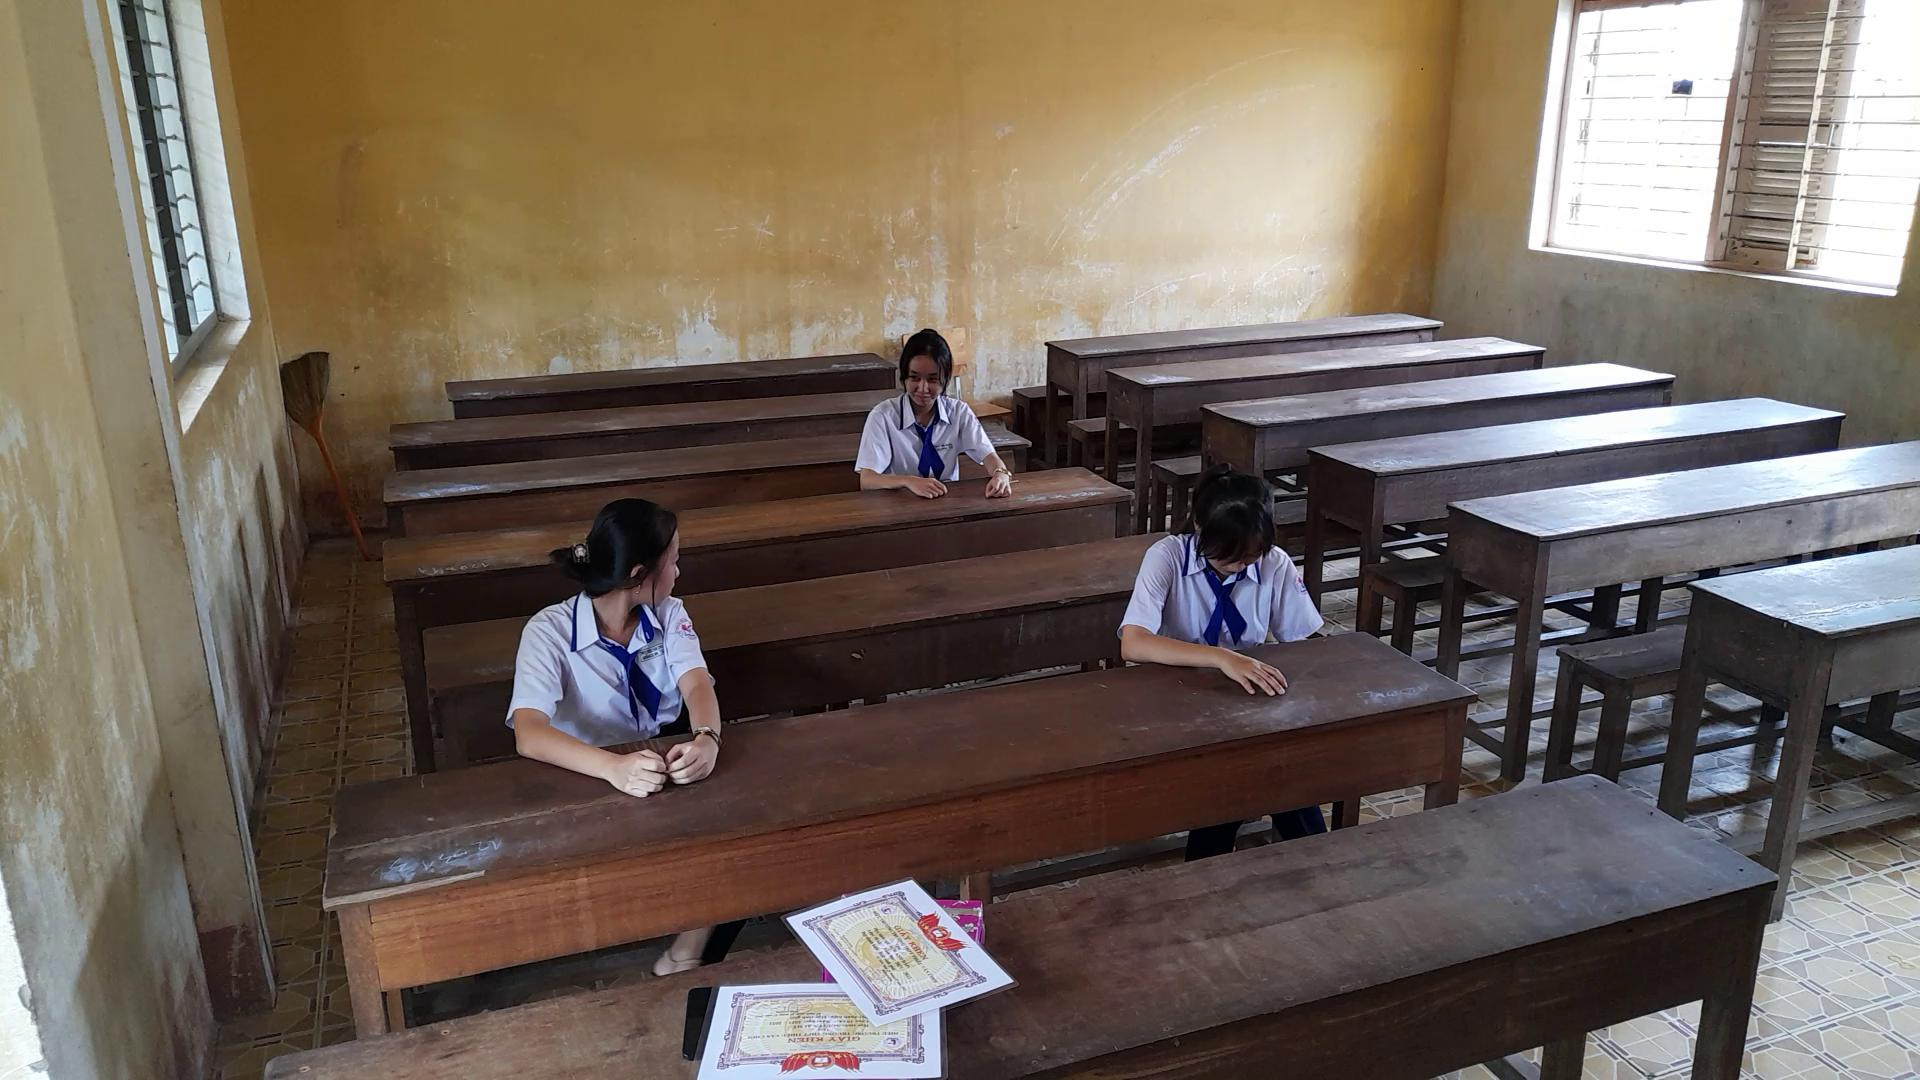Bend Over The Desk: (1156, 451, 1288, 585)
Hand Under Table: (1269, 543, 1312, 655)
Look Around: (531, 496, 698, 618)
Normal: (855, 320, 1021, 516)
